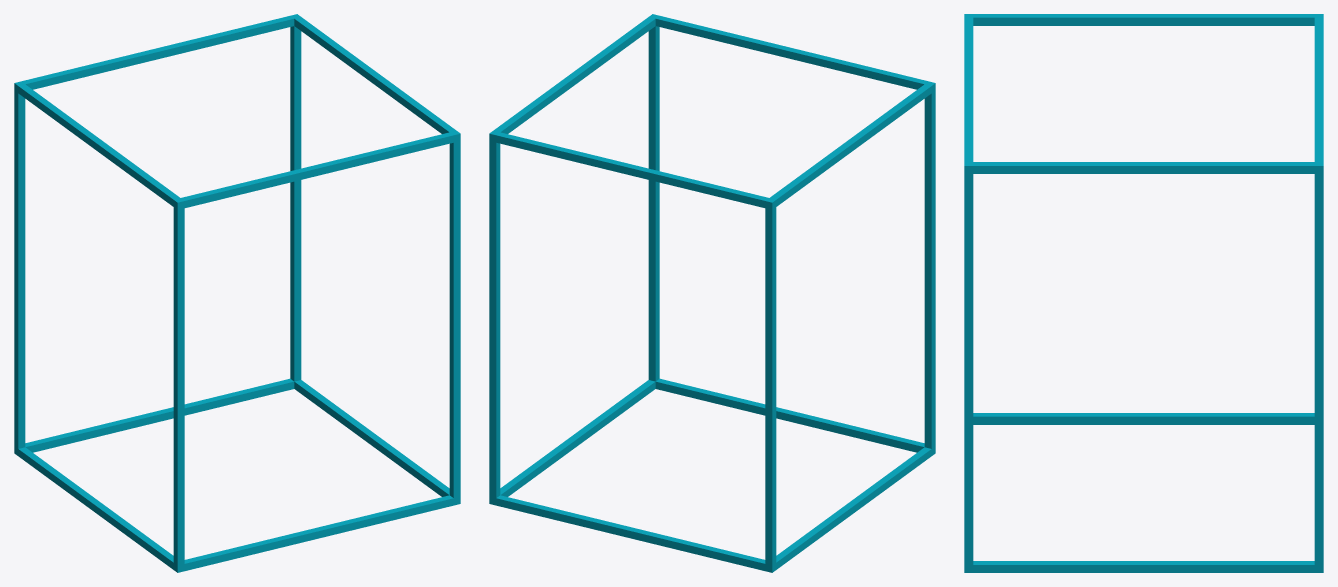
3 views of the same model, side by side, from view 1: azimuth 30°, elevation 25°; view 2: azimuth 150°, elevation 25°; view 3: azimuth 270°, elevation 25° (orthographic). The views are drawn at different scales.
Parts seen in each view (by area): view 1: Mesh_Mesh_head_geo.001_lambert2SG.001; view 2: Mesh_Mesh_head_geo.001_lambert2SG.001; view 3: Mesh_Mesh_head_geo.001_lambert2SG.001.
Boxes of the visible parts, x1,y1,x2,y2 form: Mesh_Mesh_head_geo.001_lambert2SG.001: [14, 14, 460, 572]; Mesh_Mesh_head_geo.001_lambert2SG.001: [489, 14, 935, 572]; Mesh_Mesh_head_geo.001_lambert2SG.001: [964, 14, 1323, 572].
Size of the model in its own units: 0.02 by 0.025 by 0.02.
